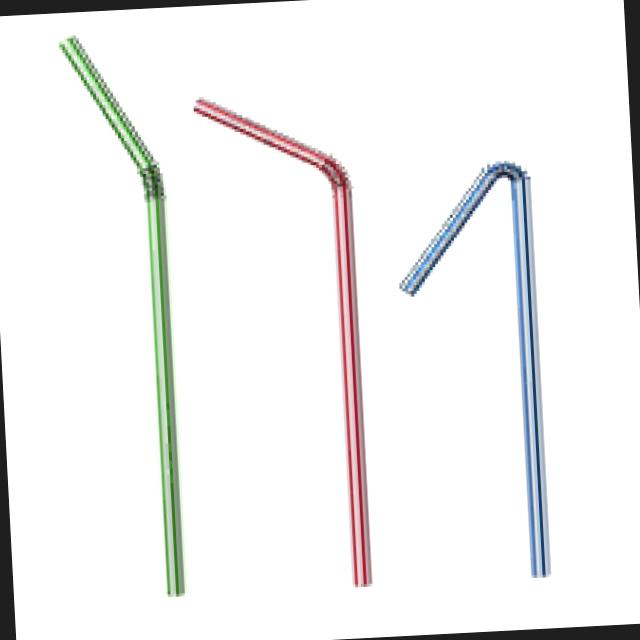plastic straw: (197, 98, 372, 585), (60, 38, 184, 595), (401, 163, 549, 576)
